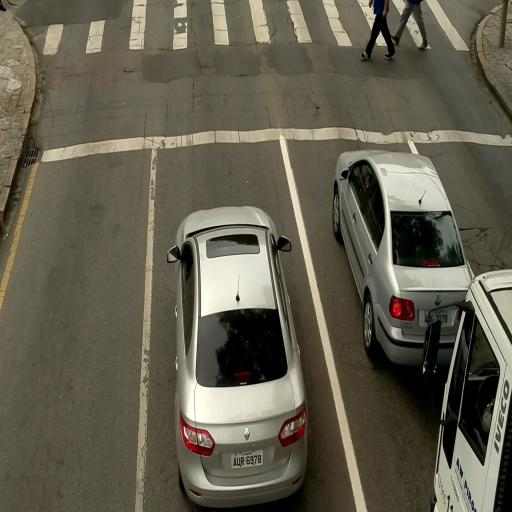car: (168, 208, 306, 506), (332, 150, 467, 366)
others: (425, 273, 512, 510)
